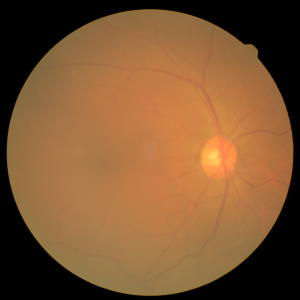cataract: (84, 95, 270, 219)
